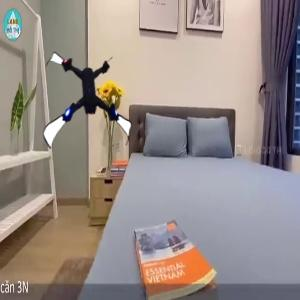drone: (41, 54, 142, 155)
